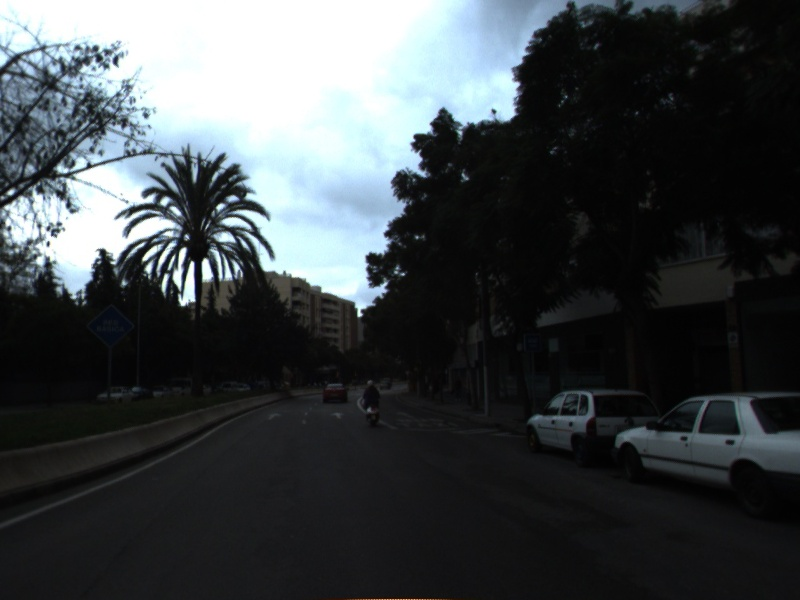STRAIGHT: (328, 410, 347, 421), (265, 411, 283, 422)
